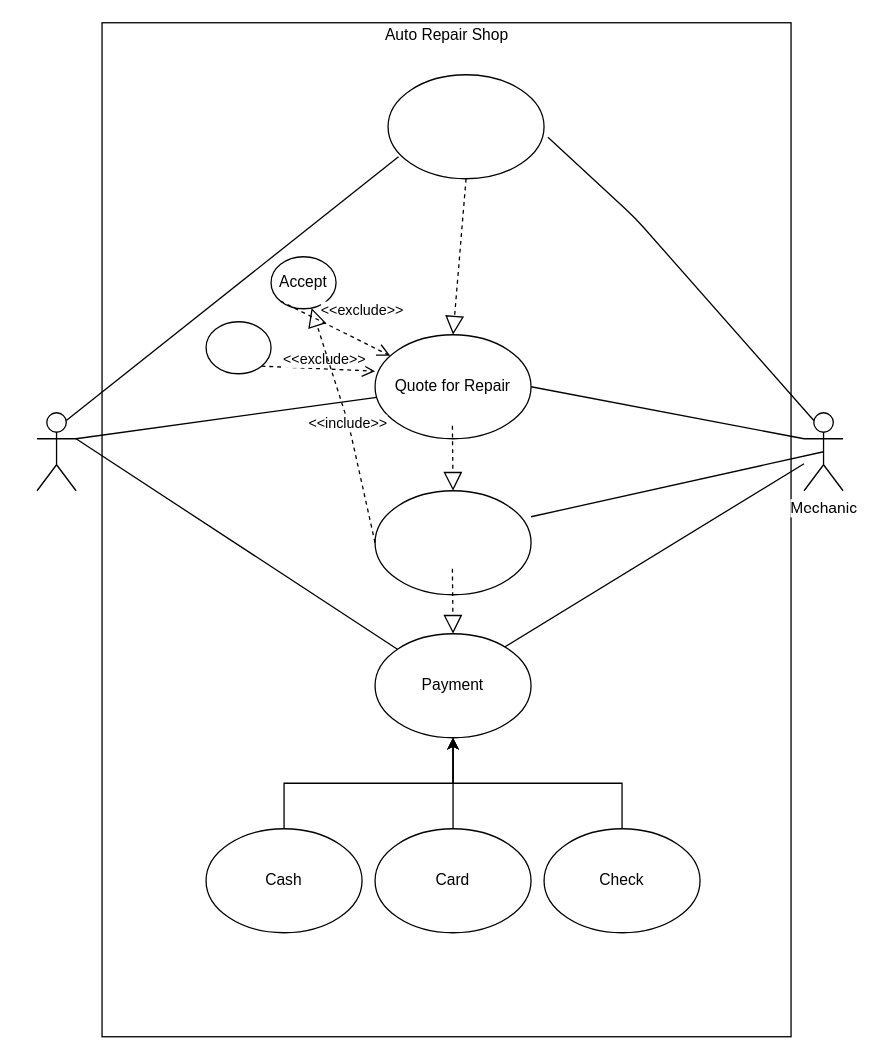
Image size: 879x1060. Some labels were removed from this diagram. The shapes that lost their labels are listed below. From the top down, each one's centre as x and y in pixels, then its label:
At point (465, 126): "Diagnosis".
At point (238, 347): "Reject".
At point (56, 451): "Customer".
At point (452, 542): "Repair".
